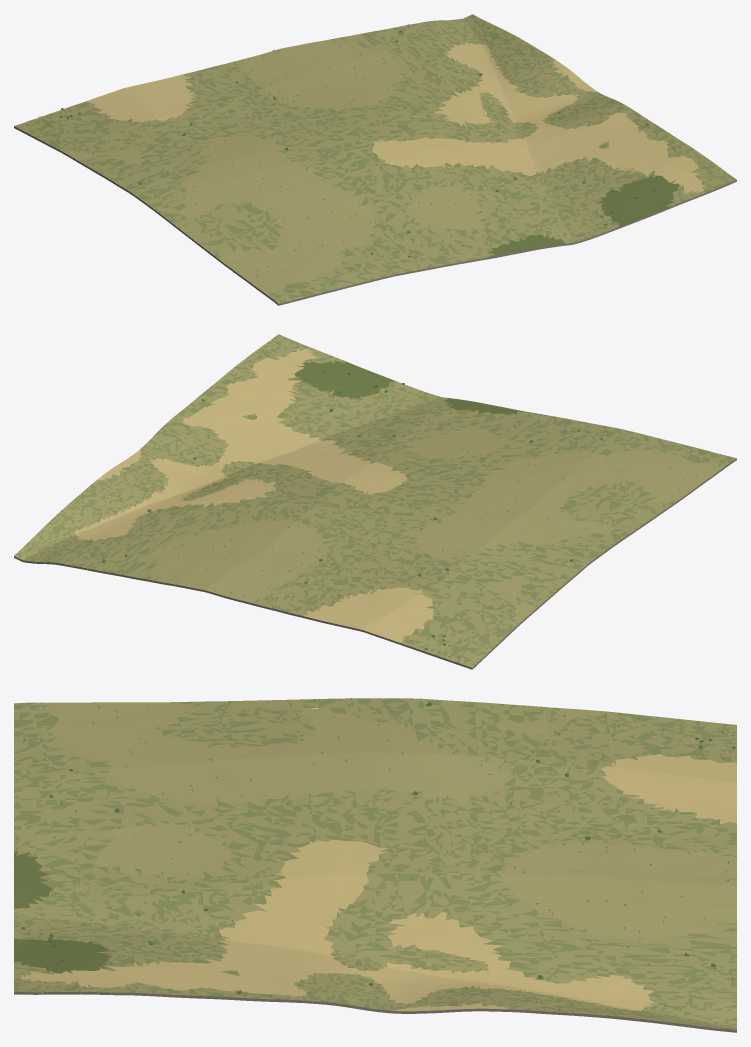
File: parca_+3_+1-yakin.glb
3 renders of one model, top to bottom at view 1: azimuth 30°, elevation 25°; view 2: azimuth 150°, elevation 25°; view 3: azimuth 270°, elevation 25°, orthographic. The views are drawn at different scales.
Parts seen in each view (by area): view 1: parca_+3_+1_arazi, parca_+3_+1_bitkiler; view 2: parca_+3_+1_arazi, parca_+3_+1_bitkiler; view 3: parca_+3_+1_arazi, parca_+3_+1_bitkiler.
Part boxes in pixels (x1,y1,x2,y2): parca_+3_+1_arazi: [14, 14, 736, 305]; parca_+3_+1_bitkiler: [25, 21, 713, 282]; parca_+3_+1_arazi: [14, 334, 736, 669]; parca_+3_+1_bitkiler: [66, 349, 725, 660]; parca_+3_+1_arazi: [14, 698, 736, 1032]; parca_+3_+1_bitkiler: [14, 698, 735, 1026].
Size of the model in its own units: 1000 by 67.18 by 1000.
